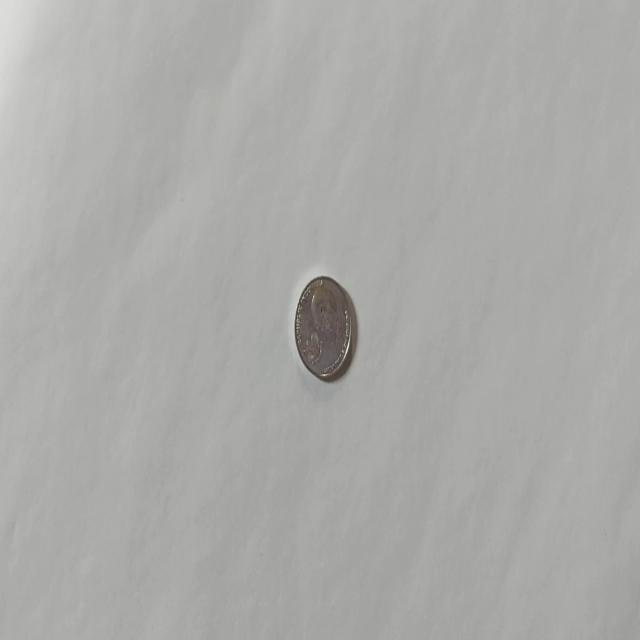lima ratus rupiah: (293, 274, 352, 382)
